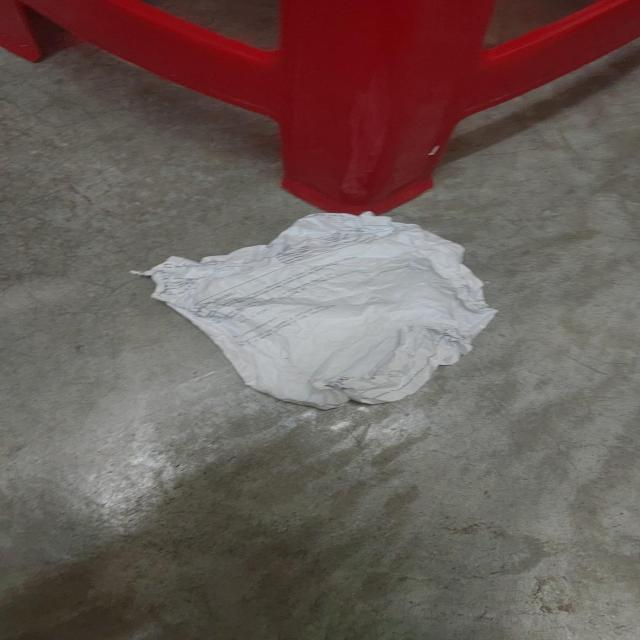paper: (128, 211, 506, 410)
